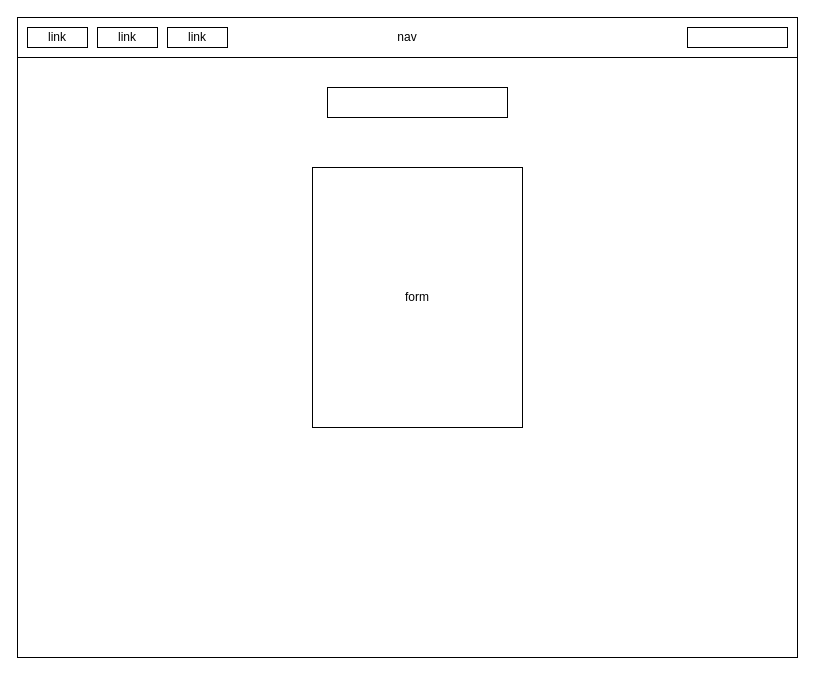
Some shapes in this 815 by 675 pixel diagram are drawn without their labels. The shapes that lost their labels are listed below. From the top down, each one's centre as x and y in pixels, then its label:
At pixel 737 37: "input".
At pixel 417 102: "text".
